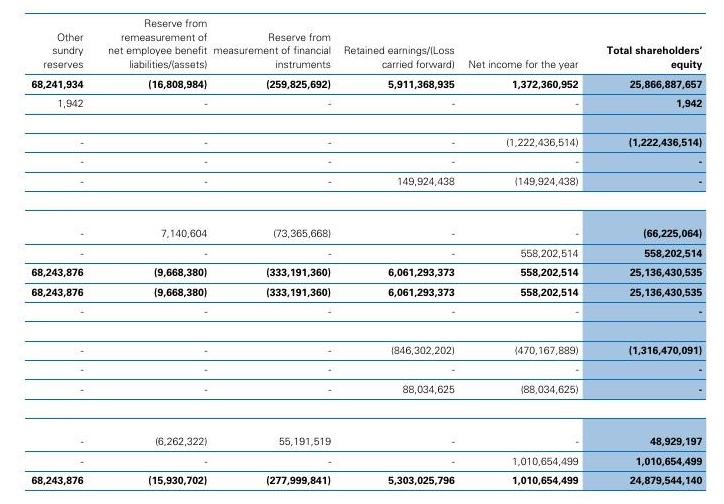table: (0, 0, 724, 504)
